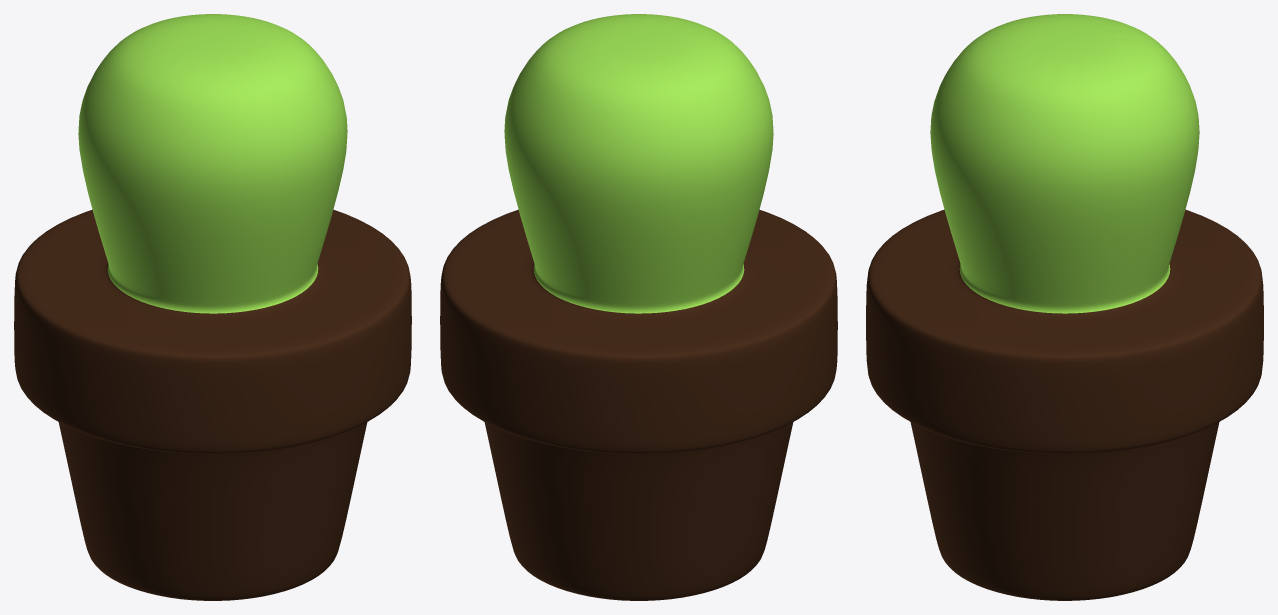
File: Cactus.fbx
3 views of the same model, side by side, from view 1: azimuth 30°, elevation 25°; view 2: azimuth 150°, elevation 25°; view 3: azimuth 270°, elevation 25° (orthographic).
Visible parts, largest first — view 1: Cactus; view 2: Cactus; view 3: Cactus.
Part boxes in pixels (<box>): Cactus: <box>14,14,411,600</box>; Cactus: <box>440,14,837,600</box>; Cactus: <box>866,14,1263,600</box>.
Size of the model in its own units: 57 by 80.85 by 57.
